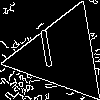I: (36, 29, 58, 77)
